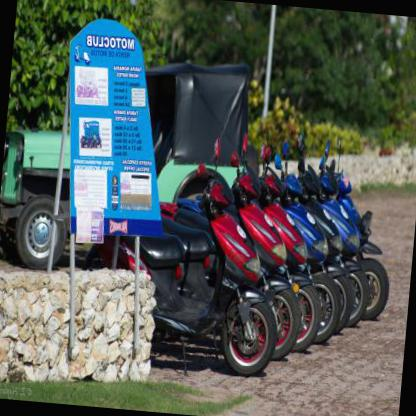motorcycle: (90, 128, 294, 384)
